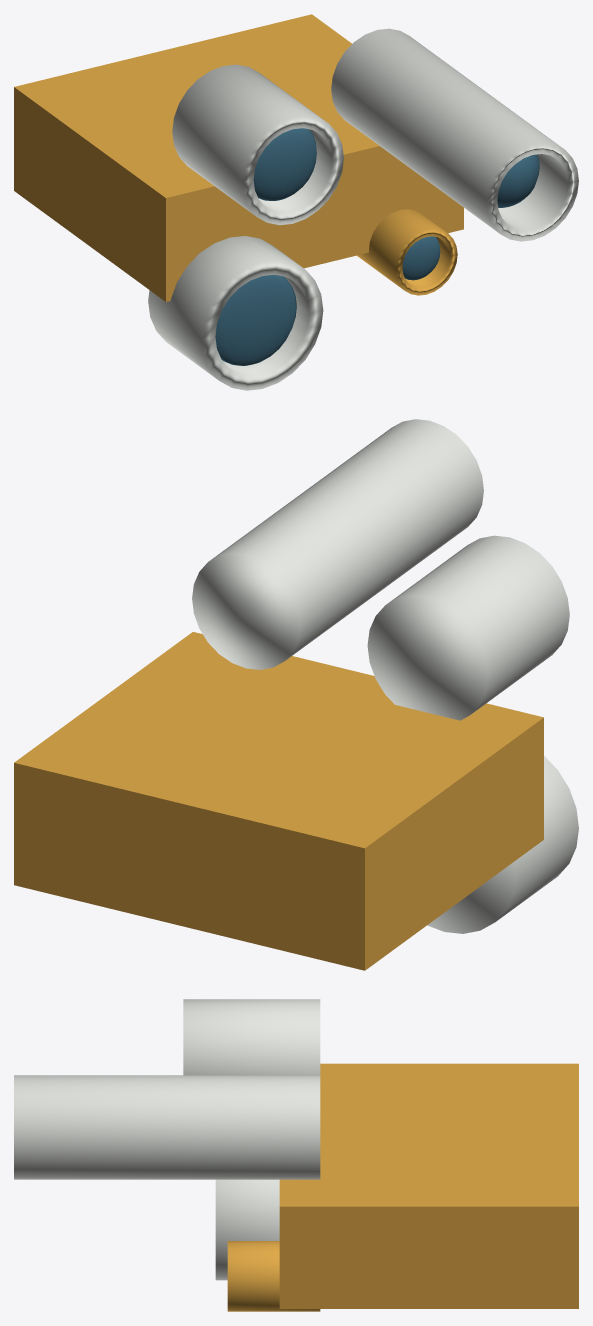
The model's file is voyager_scan_platform.boom.azimuth.elevation.glb.
3 views of the same model, one above another, from view 1: azimuth 30°, elevation 25°; view 2: azimuth 150°, elevation 25°; view 3: azimuth 270°, elevation 25° (orthographic). The views are drawn at different scales.
Parts seen in each view (by area): view 1: voyager_scan_platform.boom.azimuth.elevation.mesh_Gold_therm, voyager_scan_platform.boom.azimuth.elevation.narrow_angle.me, voyager_scan_platform.boom.azimuth.elevation.wide_angle.mesh, voyager_scan_platform.boom.azimuth.elevation.iris.mesh_Pale_, voyager_scan_platform.boom.azimuth.elevation.iris.lens.mesh_, voyager_scan_platform.boom.azimuth.elevation.uvs.mesh_Gold_t, voyager_scan_platform.boom.azimuth.elevation.wide_angle.lens, voyager_scan_platform.boom.azimuth.elevation.narrow_angle.le, voyager_scan_platform.boom.azimuth.elevation.uvs.lens.mesh_C; view 2: voyager_scan_platform.boom.azimuth.elevation.mesh_Gold_therm, voyager_scan_platform.boom.azimuth.elevation.narrow_angle.me, voyager_scan_platform.boom.azimuth.elevation.wide_angle.mesh, voyager_scan_platform.boom.azimuth.elevation.iris.mesh_Pale_; view 3: voyager_scan_platform.boom.azimuth.elevation.mesh_Gold_therm, voyager_scan_platform.boom.azimuth.elevation.narrow_angle.me, voyager_scan_platform.boom.azimuth.elevation.wide_angle.mesh, voyager_scan_platform.boom.azimuth.elevation.iris.mesh_Pale_, voyager_scan_platform.boom.azimuth.elevation.uvs.mesh_Gold_t.
Boxes of the visible parts, left/top/right/bottom form: voyager_scan_platform.boom.azimuth.elevation.mesh_Gold_therm: left=14, top=14, right=463, bottom=301; voyager_scan_platform.boom.azimuth.elevation.narrow_angle.me: left=331, top=28, right=578, bottom=241; voyager_scan_platform.boom.azimuth.elevation.wide_angle.mesh: left=172, top=64, right=343, bottom=225; voyager_scan_platform.boom.azimuth.elevation.iris.mesh_Pale_: left=148, top=236, right=323, bottom=390; voyager_scan_platform.boom.azimuth.elevation.iris.lens.mesh_: left=215, top=274, right=296, bottom=365; voyager_scan_platform.boom.azimuth.elevation.uvs.mesh_Gold_t: left=357, top=209, right=457, bottom=295; voyager_scan_platform.boom.azimuth.elevation.wide_angle.lens: left=253, top=128, right=316, bottom=200; voyager_scan_platform.boom.azimuth.elevation.narrow_angle.le: left=497, top=154, right=539, bottom=207; voyager_scan_platform.boom.azimuth.elevation.uvs.lens.mesh_C: left=402, top=236, right=440, bottom=280; voyager_scan_platform.boom.azimuth.elevation.mesh_Gold_therm: left=14, top=632, right=543, bottom=970; voyager_scan_platform.boom.azimuth.elevation.narrow_angle.me: left=192, top=419, right=483, bottom=669; voyager_scan_platform.boom.azimuth.elevation.wide_angle.mesh: left=367, top=535, right=569, bottom=720; voyager_scan_platform.boom.azimuth.elevation.iris.mesh_Pale_: left=427, top=756, right=578, bottom=933; voyager_scan_platform.boom.azimuth.elevation.mesh_Gold_therm: left=279, top=1063, right=578, bottom=1308; voyager_scan_platform.boom.azimuth.elevation.narrow_angle.me: left=14, top=1075, right=320, bottom=1179; voyager_scan_platform.boom.azimuth.elevation.wide_angle.mesh: left=183, top=999, right=320, bottom=1075; voyager_scan_platform.boom.azimuth.elevation.iris.mesh_Pale_: left=215, top=1179, right=279, bottom=1280; voyager_scan_platform.boom.azimuth.elevation.uvs.mesh_Gold_t: left=227, top=1241, right=320, bottom=1311.
Bounding box in the file's own units: 0.42 × 0.378 × 0.7005.
